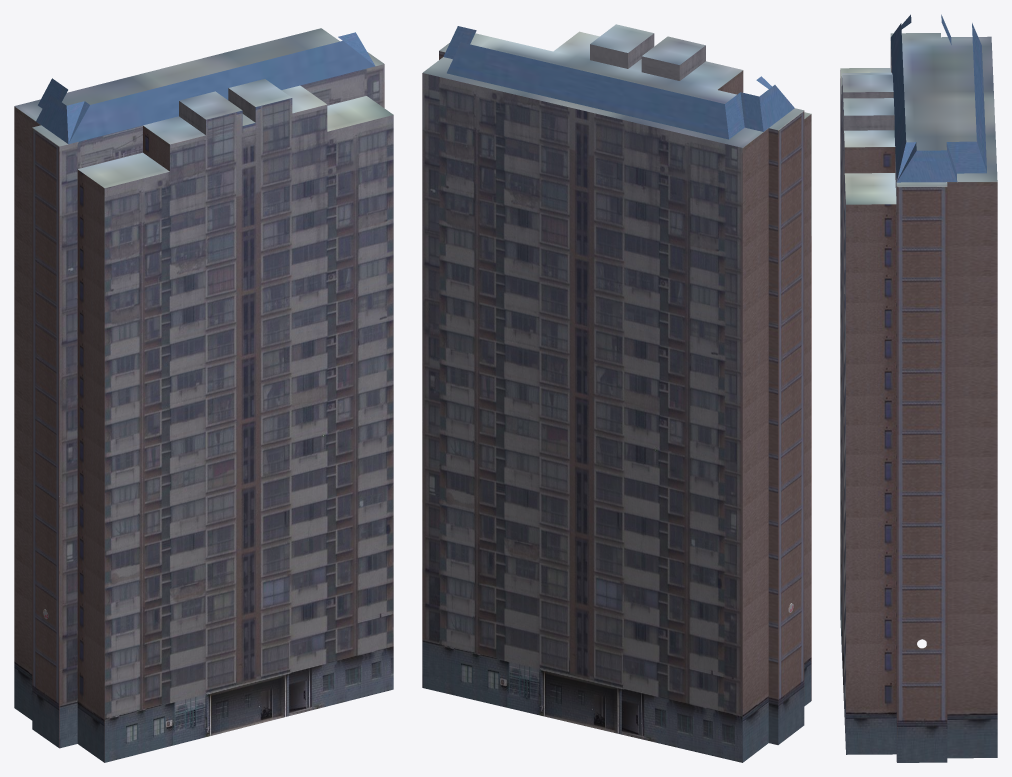
Rendered from jsgy_a4.gltf.
3 views of the same model, side by side, from view 1: azimuth 30°, elevation 25°; view 2: azimuth 150°, elevation 25°; view 3: azimuth 270°, elevation 25° (orthographic). The views are drawn at different scales.
Parts seen in each view (by area): view 1: Model#10; view 2: Model#10; view 3: Model#10.
Part boxes in pixels (x1,y1,x2,y2): Model#10: (14, 28, 393, 762); Model#10: (422, 24, 811, 762); Model#10: (840, 14, 997, 762).
Bounding box in the file's own units: 0.0361 × 0.066 × 0.0156.
3 materials, 3 textured.
